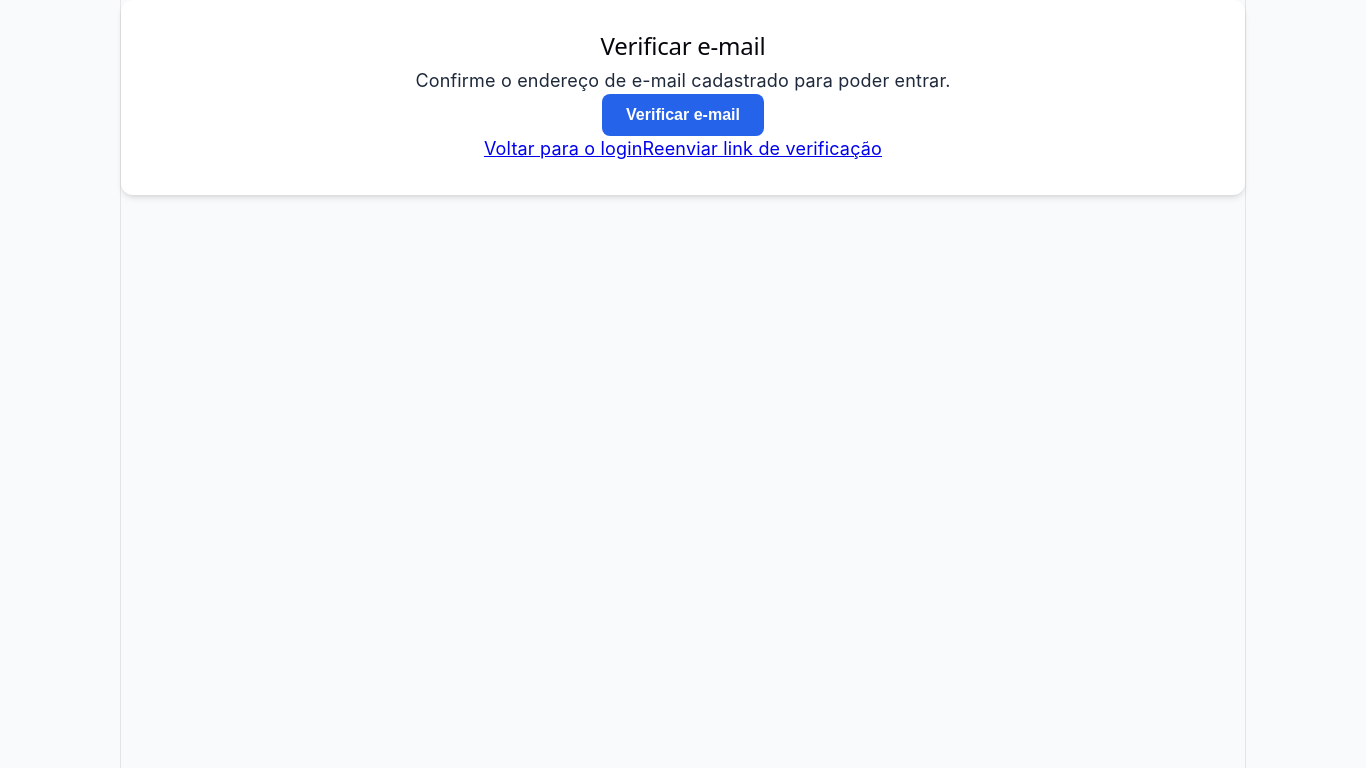
Test: Fluxos públicos da conta › verifica o token do link e limpa a URL
Click the button "Verificar e-mail": {"x": 683, "y": 115} [602,94,764,136]
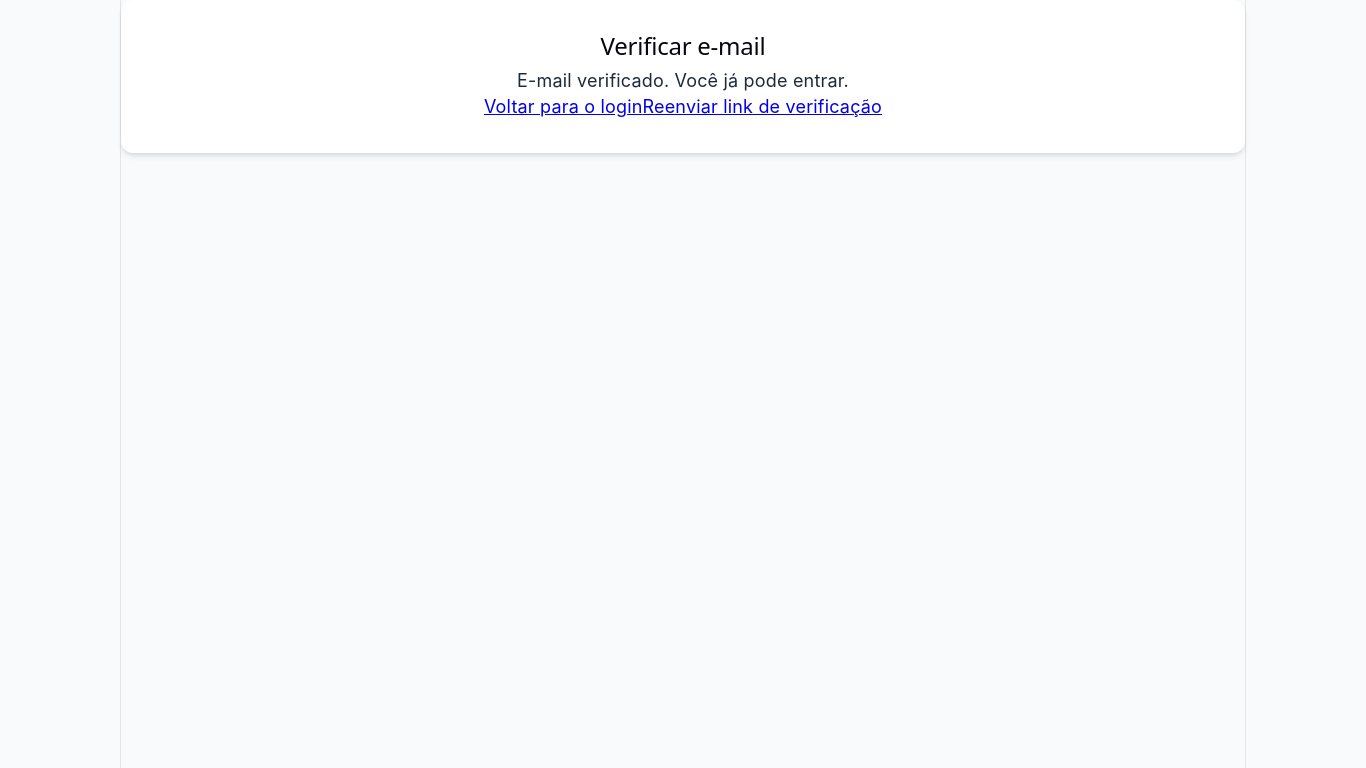
Expected: the message shows "E-mail verificado", [517,70,849,91]
